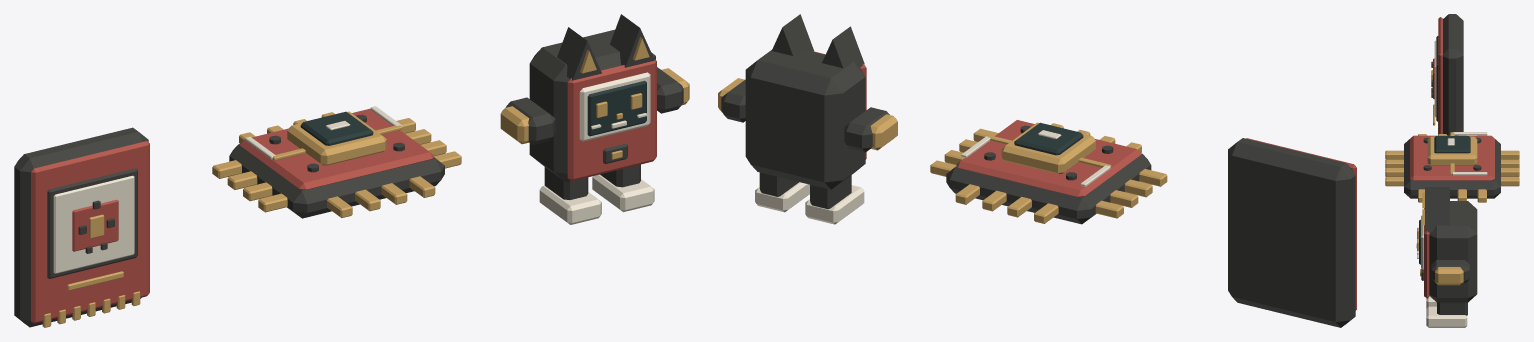
The model's file is portfolio-decor.glb.
3 views of the same model, side by side, from view 1: azimuth 30°, elevation 25°; view 2: azimuth 150°, elevation 25°; view 3: azimuth 270°, elevation 25° (orthographic). The views are drawn at different scales.
Parts seen in each view (by area): view 1: Cartridge / red face, Mascot / red shell, Core / red board, Cartridge / ink shell, Mascot / chassis, Core / ink board, Cartridge / paper label, Mascot / visor, Core / die border, Cartridge / label border, Cartridge / pixel field, Core / die glass (+10 smaller); view 2: Cartridge / ink shell, Mascot / chassis, Core / red board, Core / ink board, Core / die border, Core / die glass, Mascot / arm, Mascot / boot, Mascot / ink ear, Mascot / ink ear.001, Mascot / boot.001, Mascot / leg (+4 smaller); view 3: Mascot / chassis, Cartridge / ink shell, Core / red board, Core / ink board, Core / die border, Mascot / ink ear.001, Mascot / boot.001, Core / die glass, Cartridge / red face, Mascot / hand.001, Mascot / arm.001, Mascot / ink ear (+17 smaller).
Part boxes in pixels (left/top/right/bottom): Cartridge / red face: left=31, top=141, right=149, bottom=323; Mascot / red shell: left=567, top=59, right=656, bottom=181; Core / red board: left=240, top=108, right=434, bottom=189; Cartridge / ink shell: left=14, top=127, right=148, bottom=327; Mascot / chassis: left=529, top=29, right=655, bottom=181; Core / ink board: left=229, top=144, right=444, bottom=218; Cartridge / paper label: left=53, top=175, right=134, bottom=273; Mascot / visor: left=587, top=80, right=646, bottom=136; Core / die border: left=287, top=111, right=386, bottom=165; Cartridge / label border: left=47, top=168, right=137, bottom=278; Cartridge / pixel field: left=72, top=199, right=118, bottom=251; Core / die glass: left=300, top=111, right=373, bottom=145; Cartridge / ink shell: left=1228, top=138, right=1355, bottom=327; Mascot / chassis: left=745, top=49, right=865, bottom=189; Core / red board: left=956, top=120, right=1141, bottom=197; Core / ink board: left=946, top=153, right=1151, bottom=224; Core / die border: left=1001, top=122, right=1095, bottom=174; Core / die glass: left=1014, top=122, right=1083, bottom=155; Mascot / arm: left=844, top=107, right=889, bottom=152; Mascot / boot: left=805, top=185, right=864, bottom=224; Mascot / ink ear: left=822, top=26, right=864, bottom=68; Mascot / ink ear.001: left=771, top=14, right=813, bottom=55; Mascot / boot.001: left=755, top=182, right=809, bottom=212; Mascot / leg: left=810, top=175, right=851, bottom=209; Mascot / chassis: left=1429, top=201, right=1477, bottom=302; Cartridge / ink shell: left=1443, top=14, right=1463, bottom=135; Core / red board: left=1410, top=135, right=1494, bottom=180; Core / ink board: left=1404, top=139, right=1500, bottom=198; Core / die border: left=1427, top=136, right=1477, bottom=165; Mascot / ink ear.001: left=1425, top=203, right=1449, bottom=232; Mascot / boot.001: left=1426, top=306, right=1467, bottom=327; Core / die glass: left=1434, top=136, right=1470, bottom=153; Cartridge / red face: left=1438, top=17, right=1442, bottom=133; Mascot / hand.001: left=1435, top=267, right=1463, bottom=285; Mascot / arm.001: left=1431, top=260, right=1469, bottom=283; Mascot / ink ear: left=1425, top=187, right=1449, bottom=203.
Size of the model in its own units: 4.01 by 1.06 by 1.08.
